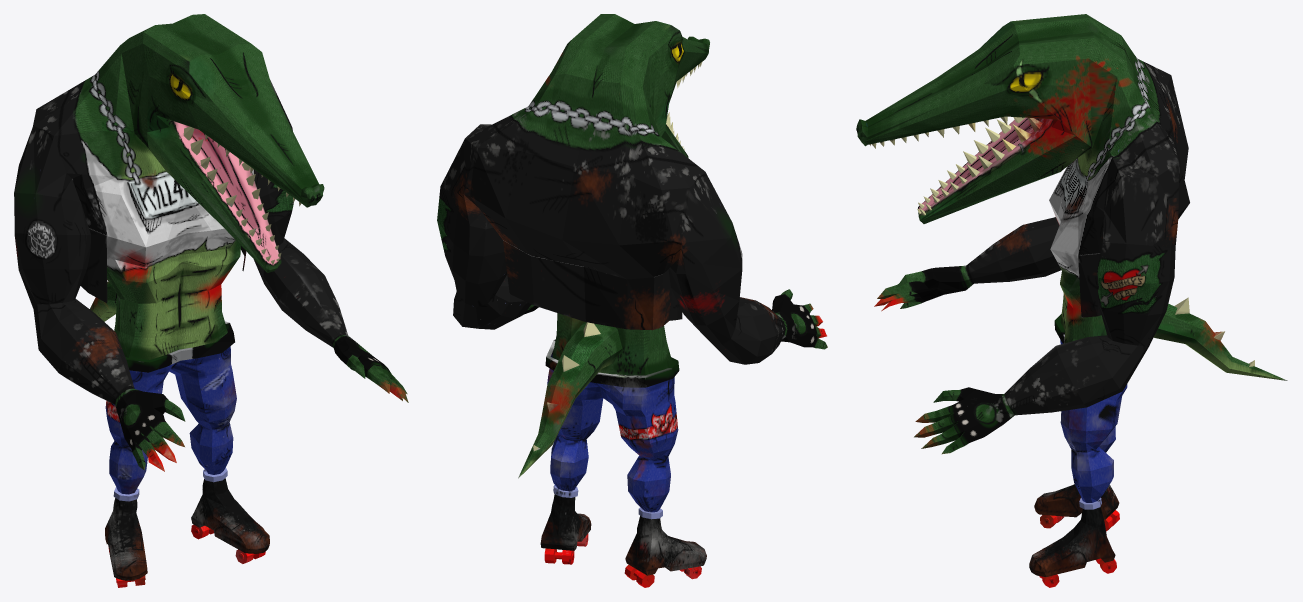
Rendered from cocodrilaBonesSelect_000030.obj.
3 views of the same model, side by side, from view 1: azimuth 30°, elevation 25°; view 2: azimuth 150°, elevation 25°; view 3: azimuth 270°, elevation 25° (orthographic).
Parts seen in each view (by area): view 1: Crocodile.002_Cylinder.002; view 2: Crocodile.002_Cylinder.002; view 3: Crocodile.002_Cylinder.002.
Boxes of the visible parts, box(x1,y1,x2,y2) form: Crocodile.002_Cylinder.002: box(14, 14, 408, 587); Crocodile.002_Cylinder.002: box(437, 14, 827, 587); Crocodile.002_Cylinder.002: box(856, 14, 1287, 587).
Size of the model in its own units: 4 by 6.72 by 4.99.
